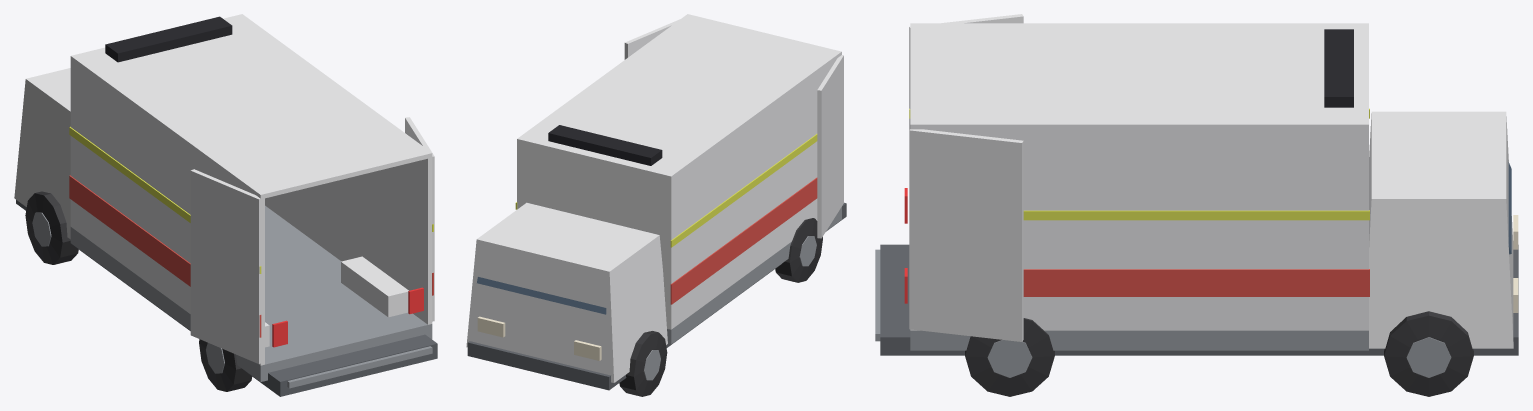
The model's file is AmbulanceOpen.obj.
The picture shows the model from 3 angles, left to right: view 1: azimuth 30°, elevation 25°; view 2: azimuth 150°, elevation 25°; view 3: azimuth 270°, elevation 25°; orthographic projection. The views are drawn at different scales.
Visible parts, largest first — view 1: AmbulanceOpen; view 2: AmbulanceOpen; view 3: AmbulanceOpen.
Boxes of the visible parts, x1=… form: AmbulanceOpen: x1=14, y1=14, x2=437, y2=396; AmbulanceOpen: x1=466, y1=14, x2=846, y2=396; AmbulanceOpen: x1=875, y1=14, x2=1518, y2=396.
Bounding box in the file's own units: 3.06 × 3.12 × 6.45.
1 material, 1 textured.
